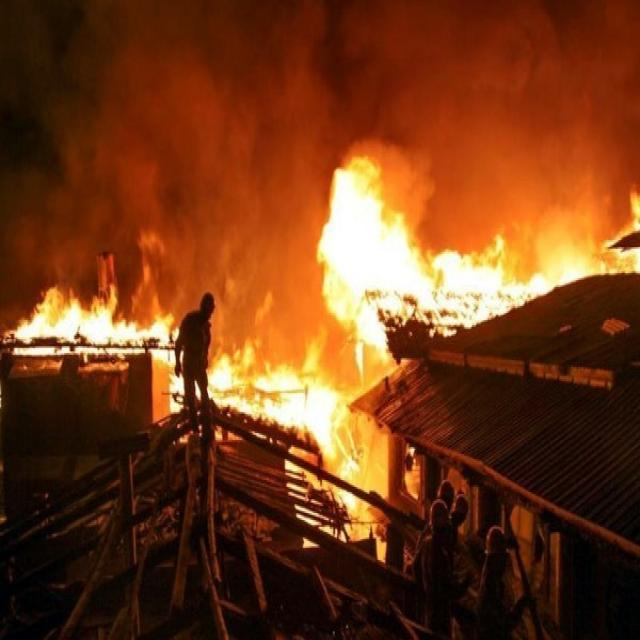Fire: (206, 153, 640, 562), (8, 285, 200, 445)
Smoke: (1, 2, 639, 384)
